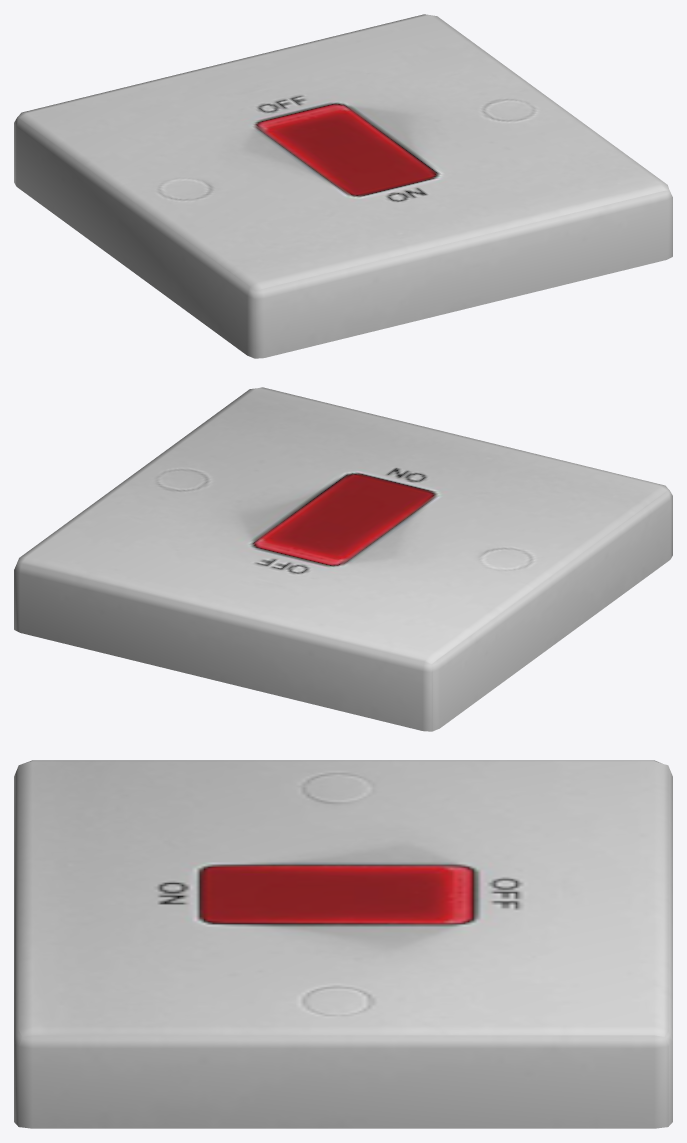
Rendered from switch board2.FBX.
The picture shows the model from 3 angles, top to bottom: view 1: azimuth 30°, elevation 25°; view 2: azimuth 150°, elevation 25°; view 3: azimuth 270°, elevation 25°; orthographic projection. The views are drawn at different scales.
Parts seen in each view (by area): view 1: switch board2; view 2: switch board2; view 3: switch board2.
Part boxes in pixels (x1,y1,x2,y2): switch board2: [14, 14, 672, 358]; switch board2: [14, 387, 672, 731]; switch board2: [14, 760, 672, 1128].
Size of the model in its own units: 3.71 by 3.71 by 0.5931.
